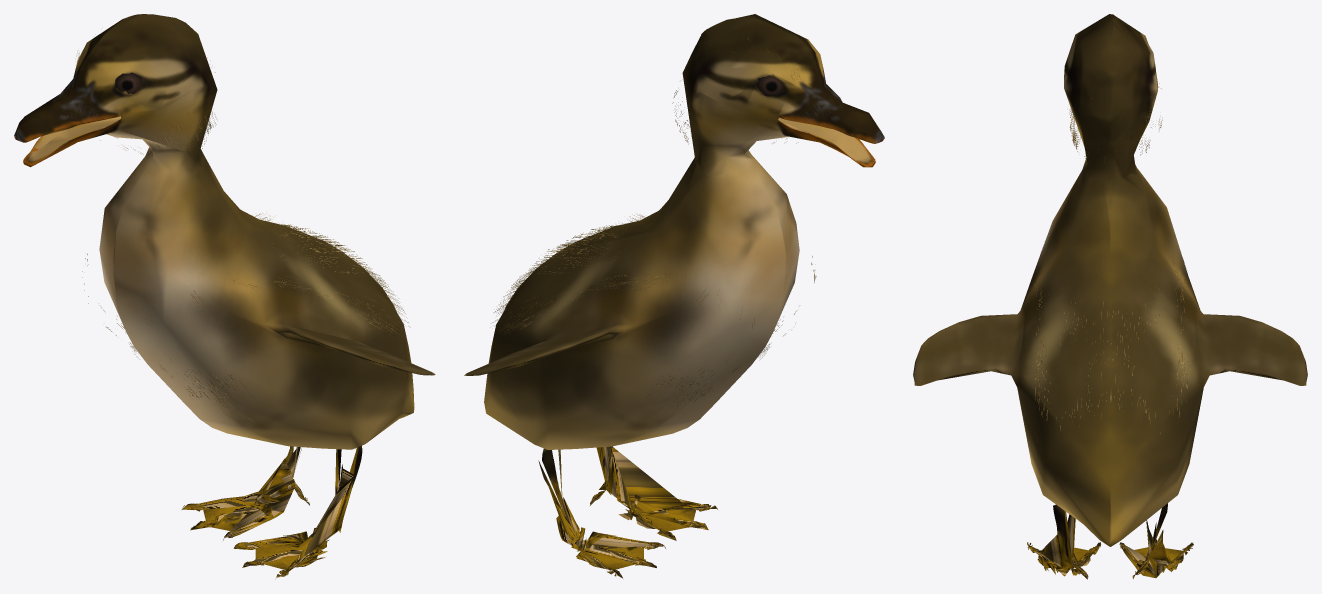
The model's file is duck.obj.
3 views of the same model, side by side, from view 1: azimuth 30°, elevation 25°; view 2: azimuth 150°, elevation 25°; view 3: azimuth 270°, elevation 25° (orthographic). The views are drawn at different scales.
Bounding box in the file's own units: 1.89 × 2.5 × 1.83.
